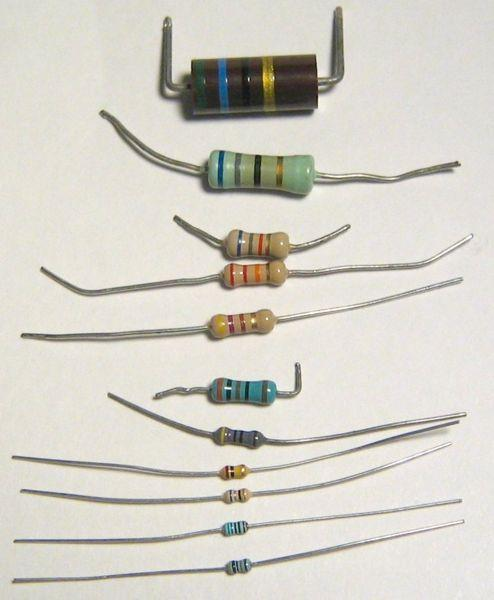resistor: (181, 52, 324, 120), (207, 144, 318, 197), (207, 371, 279, 412), (206, 306, 275, 341), (217, 257, 286, 289), (226, 226, 291, 259), (211, 423, 267, 452), (220, 518, 251, 540), (218, 462, 251, 481), (223, 557, 255, 576), (220, 488, 252, 505)
